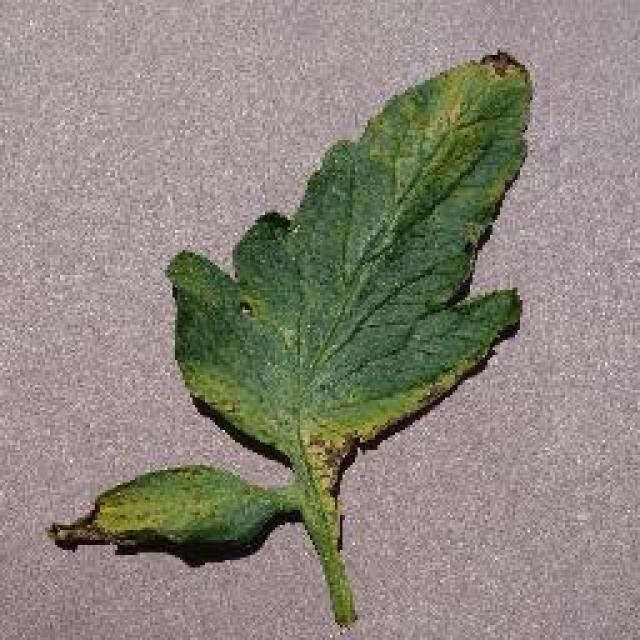Tomato target spot leaf: (166, 54, 539, 454), (50, 460, 292, 575)
